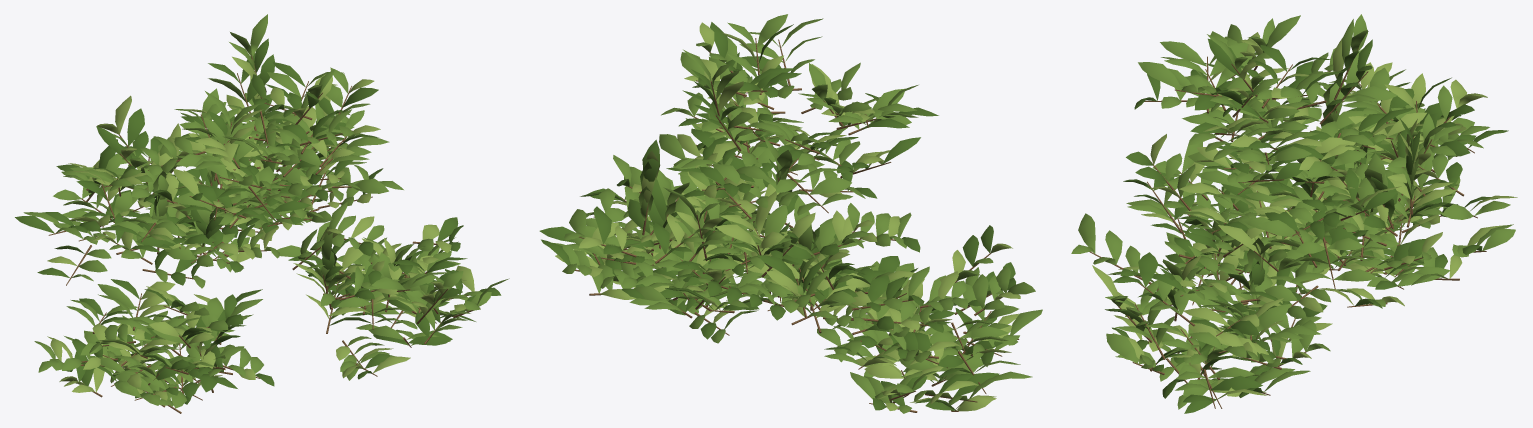
Rendered from tree-crown-young.glb.
3 views of the same model, side by side, from view 1: azimuth 30°, elevation 25°; view 2: azimuth 150°, elevation 25°; view 3: azimuth 270°, elevation 25° (orthographic). The views are drawn at different scales.
Parts seen in each view (by area): view 1: tree-crown-young / N06 / olive leaf mid, tree-crown-young / N05 / olive leaf shade, tree-crown-young / N07 / sunlit young leaf, tree-crown-young / N03 / warm ridged bark; view 2: tree-crown-young / N06 / olive leaf mid, tree-crown-young / N05 / olive leaf shade, tree-crown-young / N07 / sunlit young leaf, tree-crown-young / N03 / warm ridged bark; view 3: tree-crown-young / N06 / olive leaf mid, tree-crown-young / N05 / olive leaf shade, tree-crown-young / N07 / sunlit young leaf, tree-crown-young / N03 / warm ridged bark.
Boxes of the visible parts, x1=… form: tree-crown-young / N06 / olive leaf mid: x1=23, y1=14, x2=509, y2=408; tree-crown-young / N05 / olive leaf shade: x1=15, y1=38, x2=501, y2=404; tree-crown-young / N07 / sunlit young leaf: x1=47, y1=56, x2=474, y2=400; tree-crown-young / N03 / warm ridged bark: x1=48, y1=55, x2=473, y2=413; tree-crown-young / N06 / olive leaf mid: x1=552, y1=14, x2=1042, y2=413; tree-crown-young / N05 / olive leaf shade: x1=539, y1=22, x2=1015, y2=410; tree-crown-young / N07 / sunlit young leaf: x1=555, y1=22, x2=1020, y2=411; tree-crown-young / N03 / warm ridged bark: x1=575, y1=38, x2=1019, y2=412; tree-crown-young / N06 / olive leaf mid: x1=1071, y1=14, x2=1515, y2=409; tree-crown-young / N05 / olive leaf shade: x1=1105, y1=38, x2=1508, y2=413; tree-crown-young / N07 / sunlit young leaf: x1=1092, y1=32, x2=1517, y2=400; tree-crown-young / N03 / warm ridged bark: x1=1089, y1=48, x2=1486, y2=408.
Bounding box in the file's own units: 2.89 × 2 × 2.35.
Materials: 4 (1 with a texture image).
